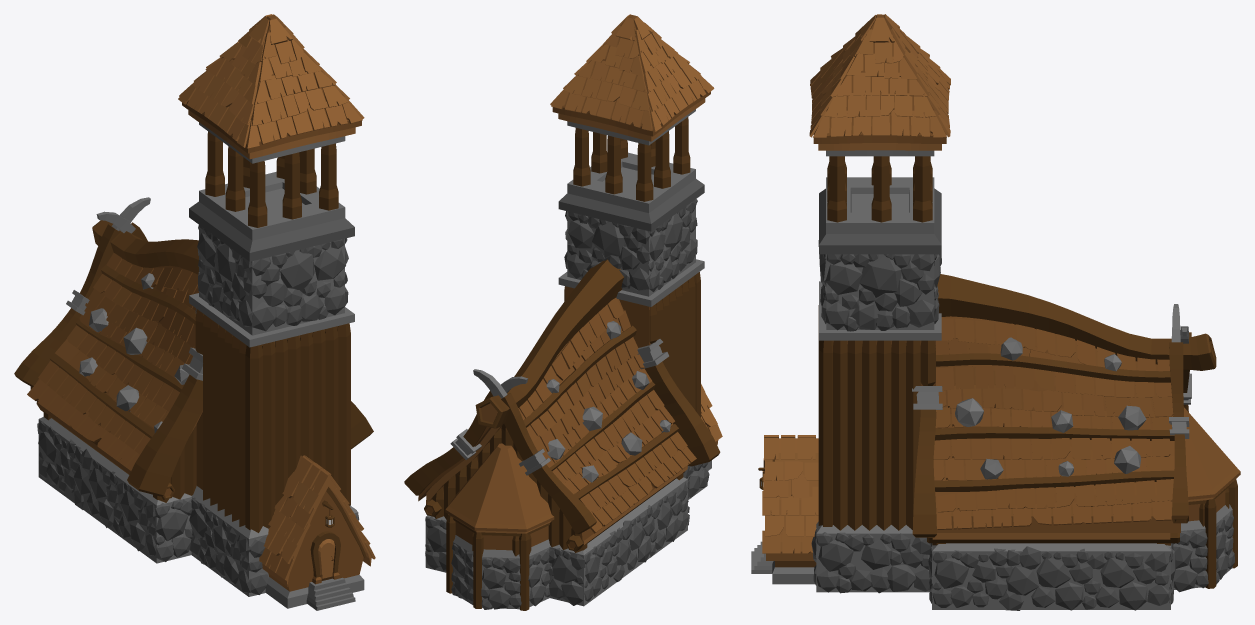
Rendered from B_Church.fbx.
The picture shows the model from 3 angles, left to right: view 1: azimuth 30°, elevation 25°; view 2: azimuth 150°, elevation 25°; view 3: azimuth 270°, elevation 25°; orthographic projection. The views are drawn at different scales.
Visible parts, largest first — view 1: B_Church; view 2: B_Church; view 3: B_Church.
Part boxes in pixels (x1,y1,x2,y2): B_Church: [14, 14, 375, 610]; B_Church: [404, 14, 722, 610]; B_Church: [751, 14, 1240, 610].
Size of the model in its own units: 645 by 1433 by 1153.
